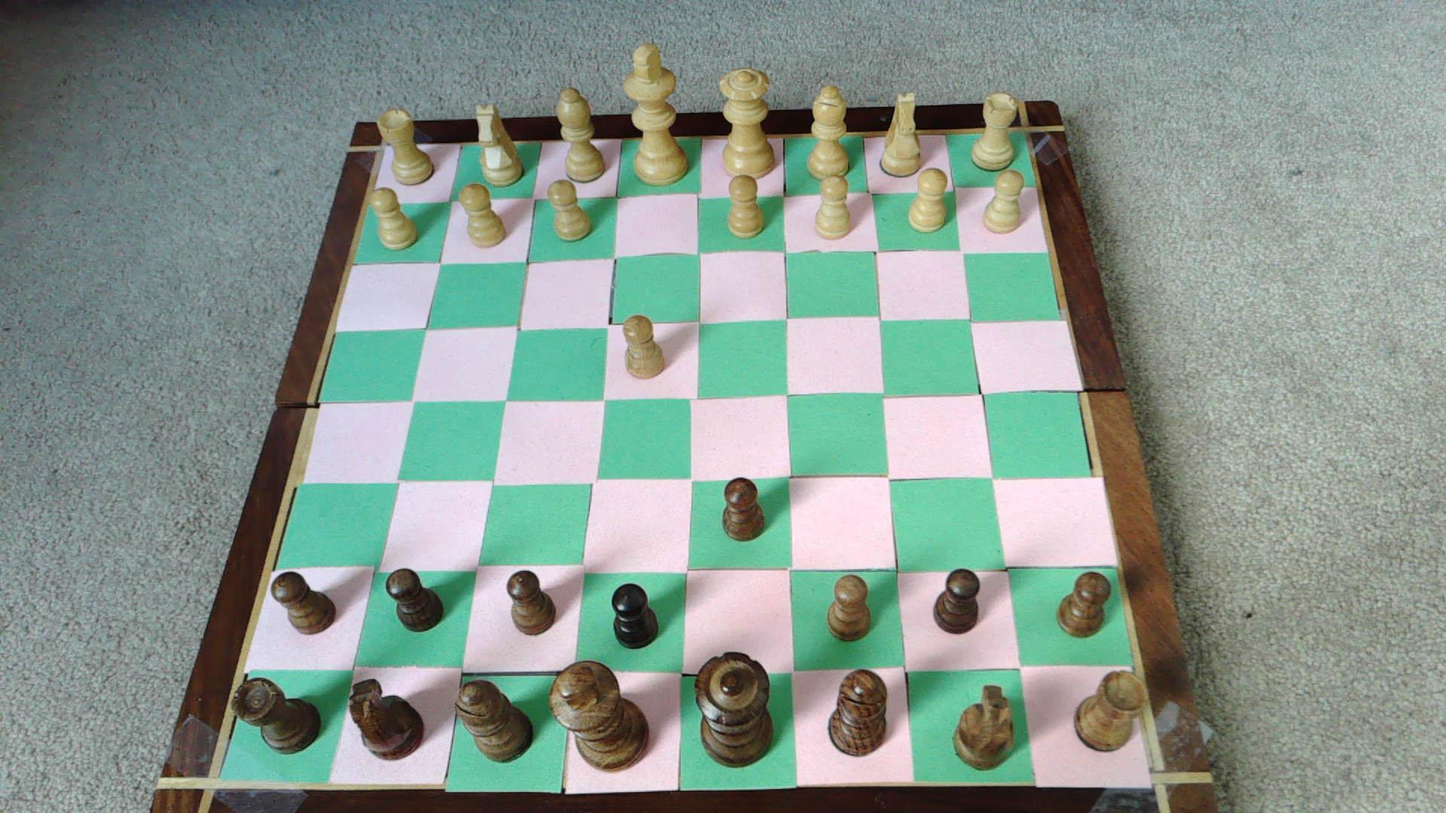dark_piece: (550, 661, 648, 770), (696, 653, 772, 766), (232, 678, 320, 752), (456, 680, 533, 761), (349, 679, 423, 759), (1075, 670, 1147, 751), (952, 685, 1013, 769), (829, 670, 887, 755), (270, 574, 335, 635), (386, 567, 443, 630), (1057, 572, 1110, 637), (507, 570, 555, 634), (612, 583, 659, 648), (827, 575, 871, 640), (934, 569, 979, 632), (723, 478, 765, 540)
white_piece: (622, 43, 689, 186), (720, 70, 777, 177), (555, 87, 606, 182), (377, 109, 435, 186), (807, 85, 850, 180), (474, 102, 523, 185), (970, 92, 1017, 171), (879, 93, 923, 176), (459, 184, 507, 247), (371, 188, 417, 250), (548, 180, 592, 241), (623, 315, 665, 378), (983, 170, 1025, 233), (908, 168, 949, 232), (726, 175, 764, 237), (814, 177, 851, 239)
